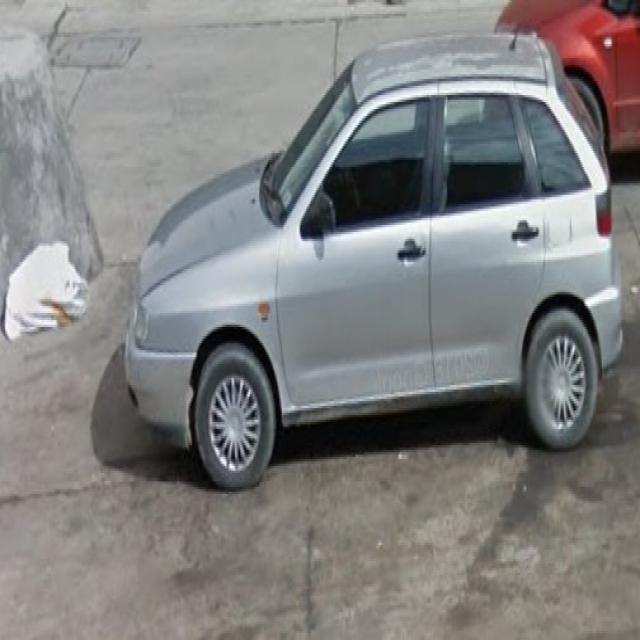car: (123, 29, 626, 490), (494, 0, 640, 159)
